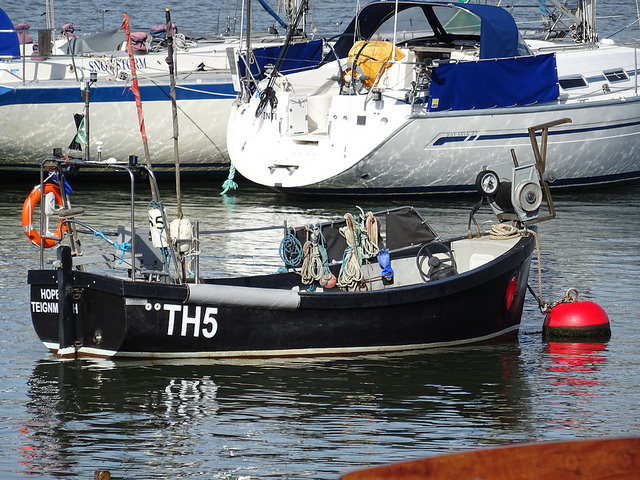boat: (224, 1, 636, 195)
fishing_boat: (23, 58, 545, 356)
